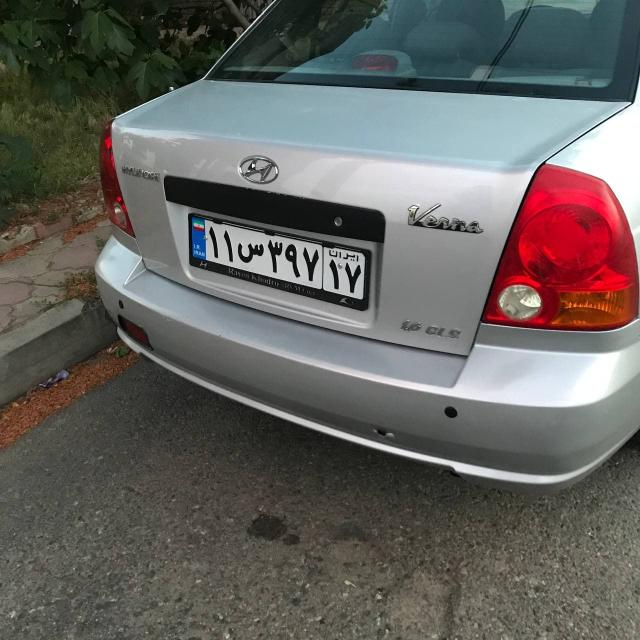Plates: (182, 216, 373, 300)
